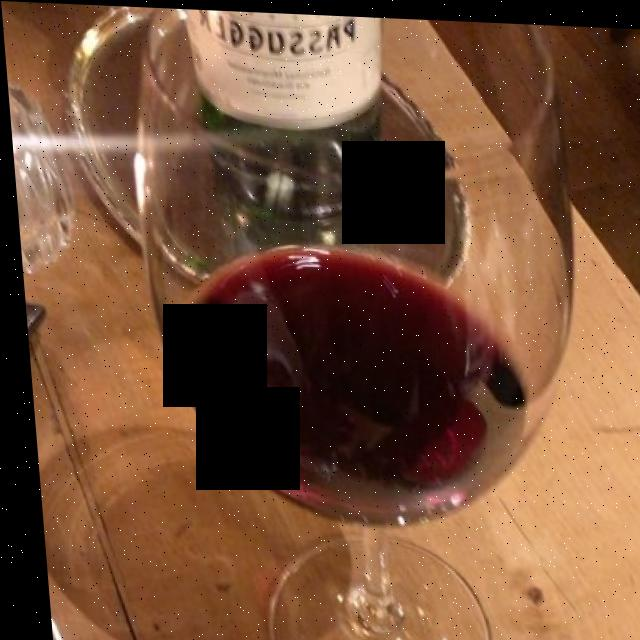wine-red: (171, 246, 531, 521)
